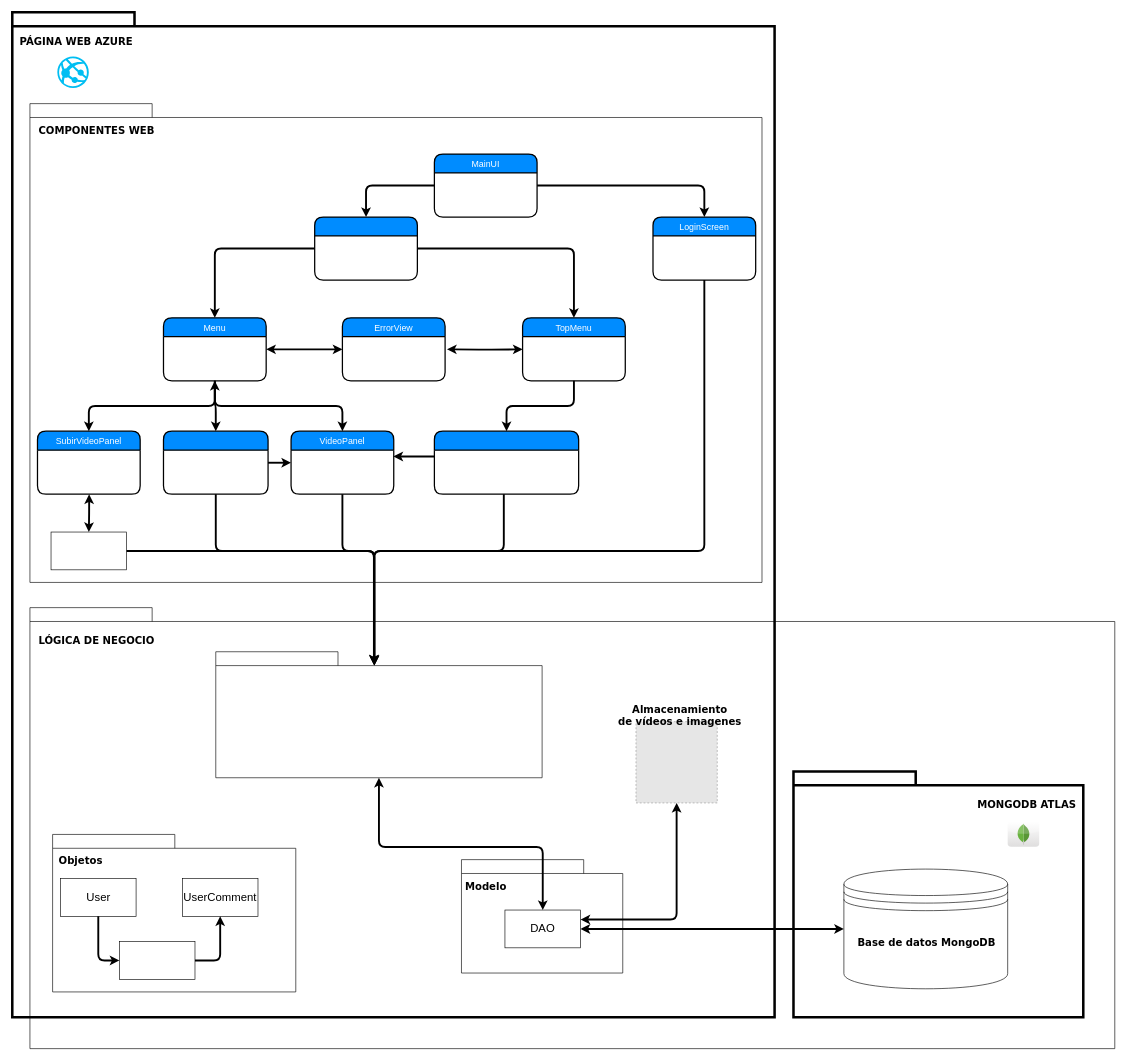
This 1126x1060 diagram has some shape labels left out. Grey dashed boxes stand in for pictures. Here are the shapes that lost their labels. From the top down, the centre of each, then its label:
At [366,248]: "MainScreen".
At [215,462]: "SuscripcionesPanel".
At [506,462]: "ResultadoBusquedaVideoPanel".
At [88,550]: "FileUploader".
At [378,714]: "Controladores".
At [157,960]: "UserVideo".
